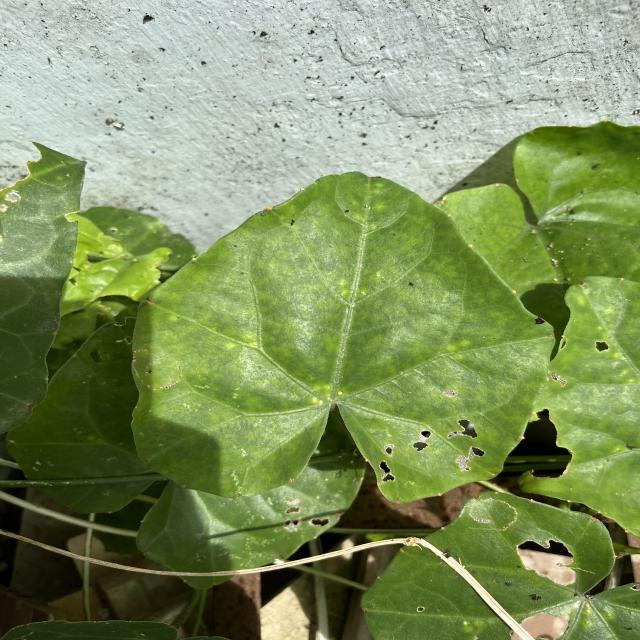Coccinia grandis: (128, 168, 562, 508)
